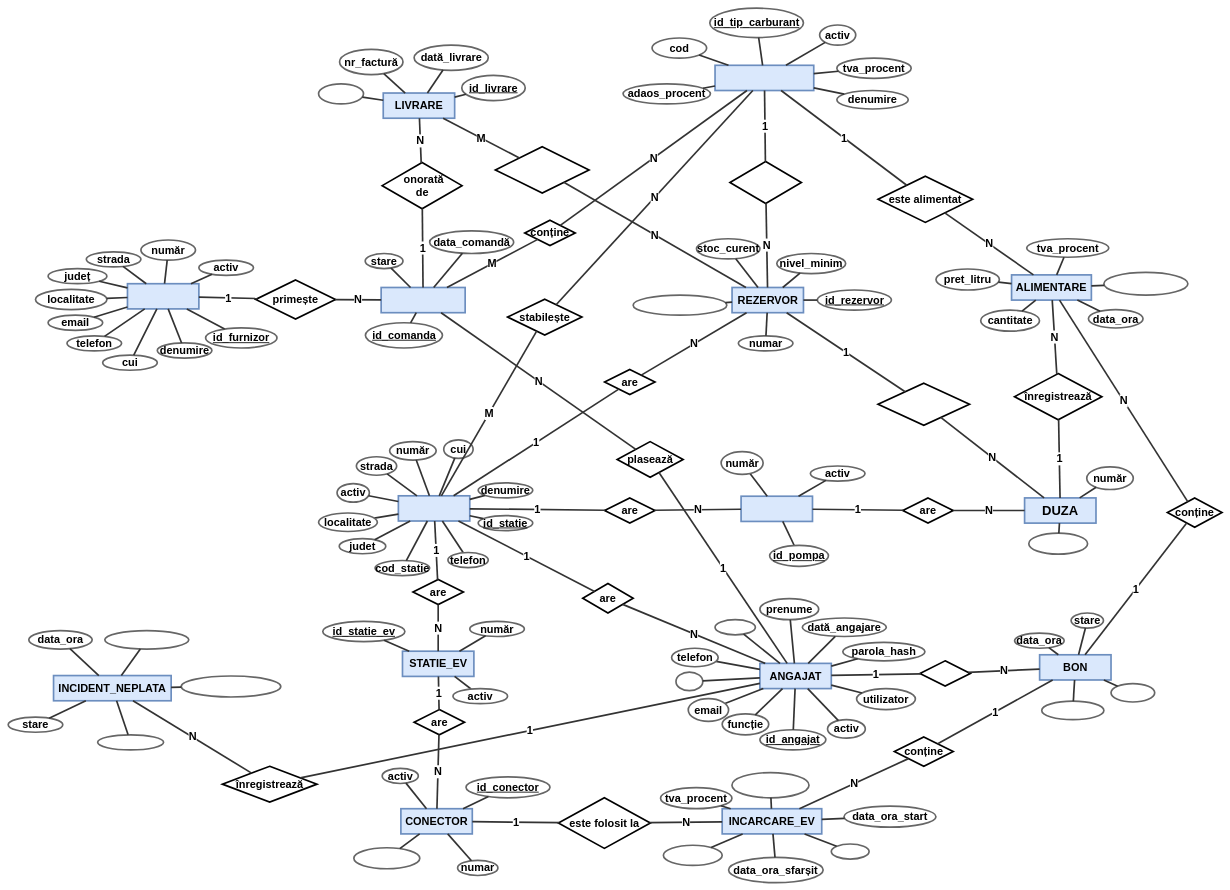
This 1230x890 diagram has some shape labels left out. Here are the shapes that lost their labels. From the top down, the centre of each, then its label:
point 341,94: nr_aviz
point 764,77: TIP_CARBURANT
point 542,170: descarcată în
point 765,182: stochează
point 163,296: FURNIZOR
point 423,299: COMANDA
point 1146,283: id_alimentare
point 679,305: capacitate_max
point 923,404: alimentează
point 433,508: STATIE
point 776,508: POMPA
point 1058,543: id_duza
point 146,640: id_incident
point 735,627: nume
point 230,686: nr_inmatriculare
point 689,681: cnp
point 945,673: emite
point 1132,692: id_bon
point 1073,710: numar_bon
point 130,742: descriere
point 770,785: id_incarcare
point 386,858: putere_kw
point 692,855: pret_kwh
point 850,851: kwh
